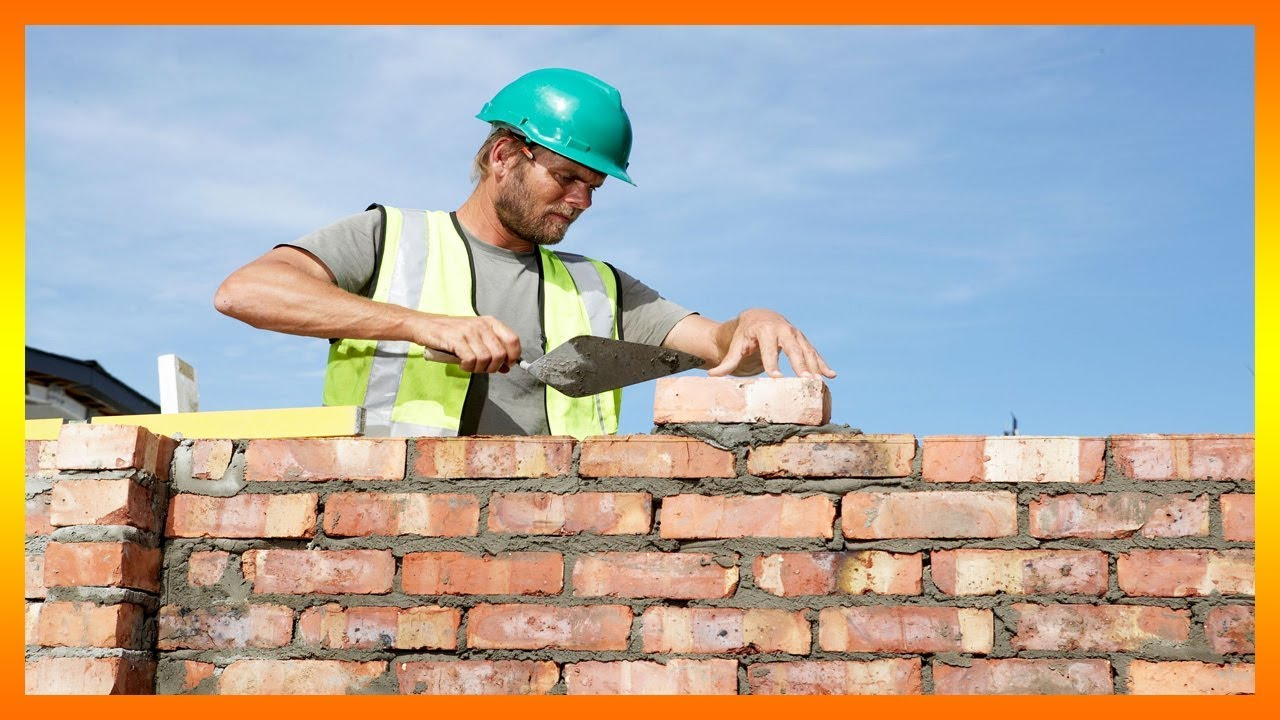casco: (474, 66, 643, 192)
